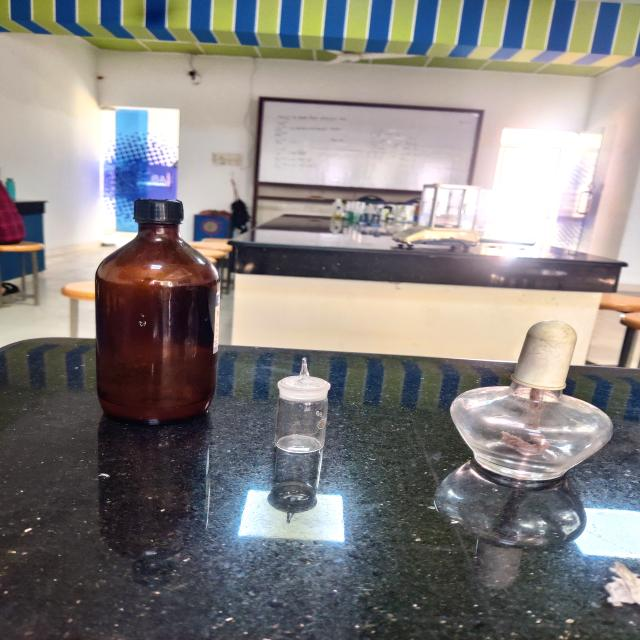Nessler_Reagent_Bottle: (77, 188, 243, 438)
Spirit_Lamp: (435, 299, 640, 512)
Weighing_Bottle: (260, 350, 350, 464)
